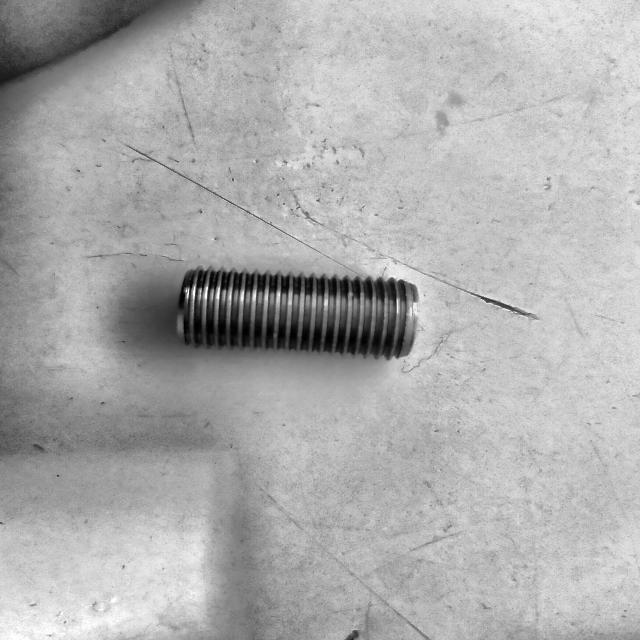Normal: (174, 266, 421, 364)
